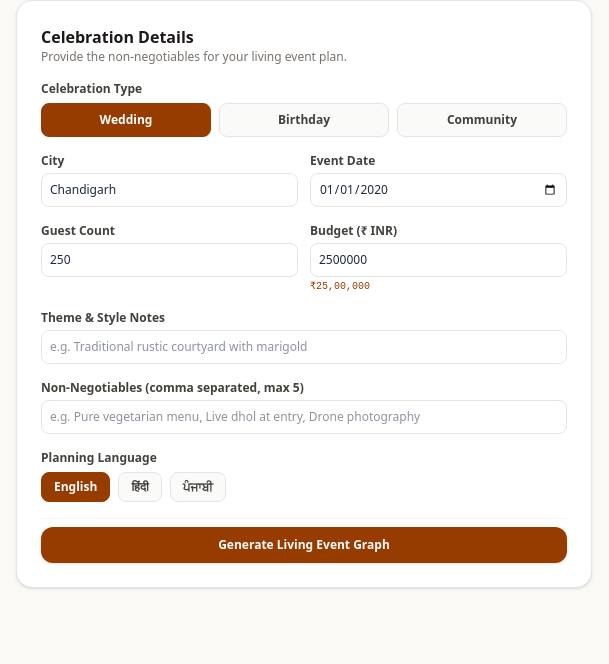
Test: IntakeSheet Component (AC5, AC18) › AC5 shows validation error for past date
Click the button "Generate Living Event Graph" at {"x": 304, "y": 545}, box [41,527,567,563]
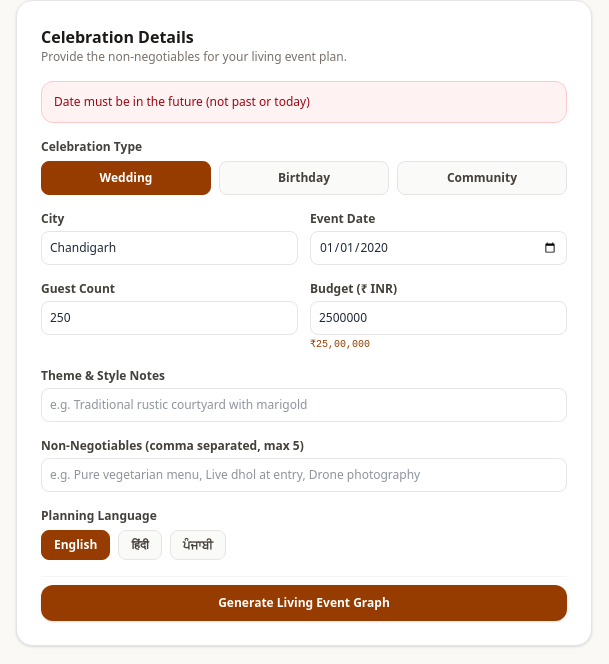
Expected: the message "Date must be in the future (not past or today)" is shown, [41,81,567,123]
